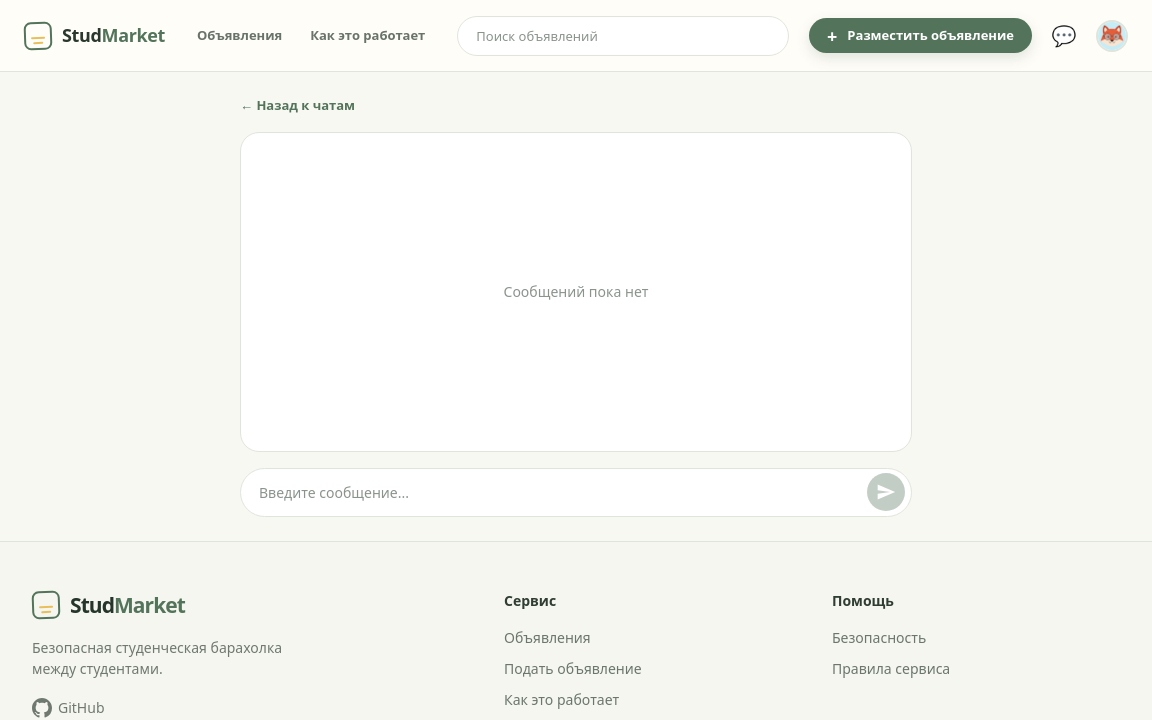
Test: ChatPage › sends a message and refreshes the list
Expected: the text "Сообщений пока нет" is shown, top-left (504, 281), bottom-right (648, 302)
Step 1. Type "Как дела?" into the field labelled "сообщение" → x=561, y=492, box top-left (259, 472), bottom-right (863, 512)
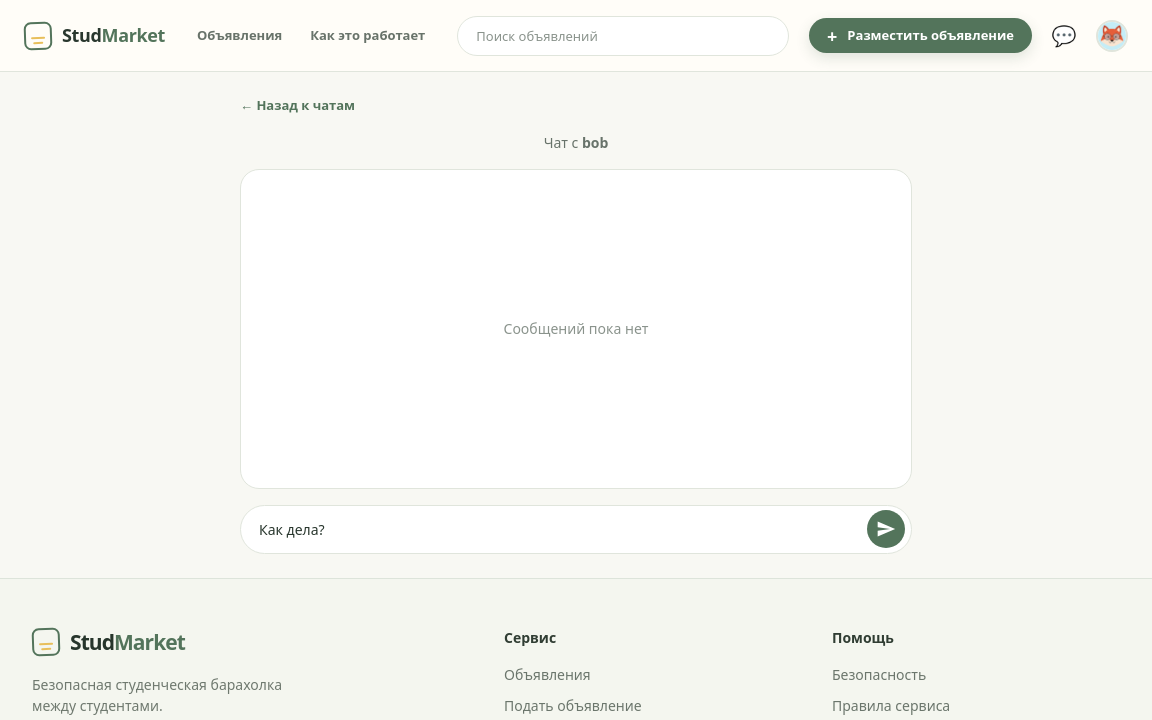
Step 2. Click the button named "Отправить" → x=886, y=529, box top-left (867, 510), bottom-right (905, 548)
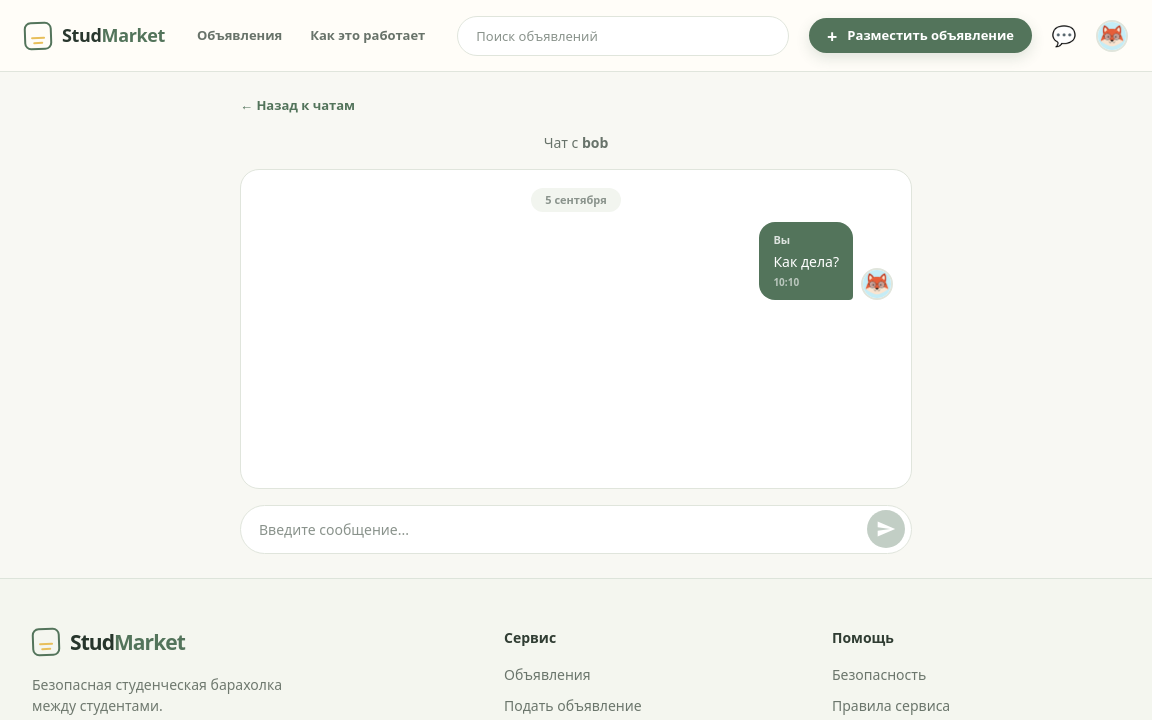
Expected: the text "Как дела?" is shown, top-left (773, 252), bottom-right (839, 272)
